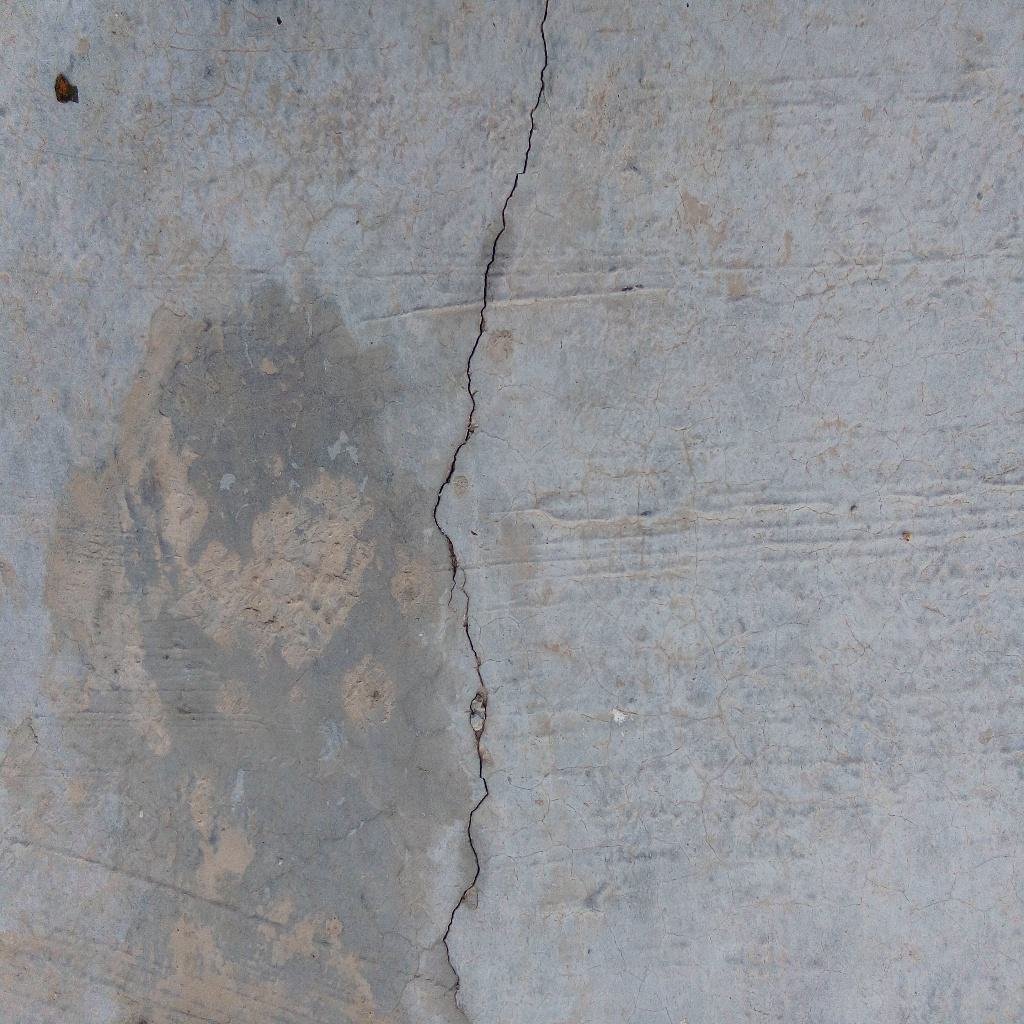Crack: (430, 1, 553, 1024)
